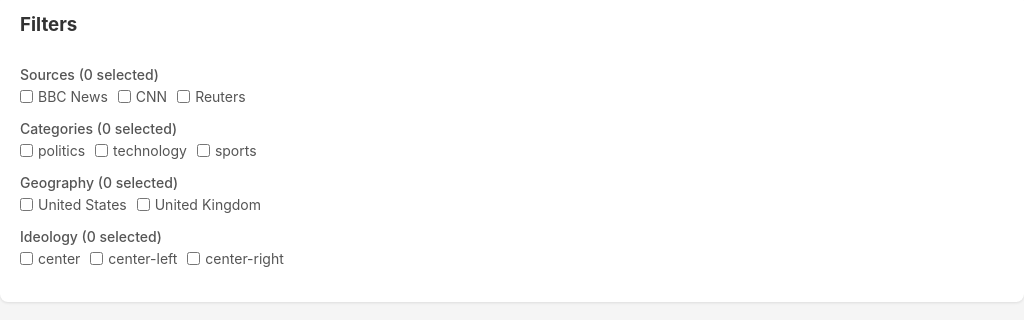
Test case: Filters › should show clear all button when filters active
Expected: the text "BBC News" is shown, [38,88,108,105]
Click the checkbox labelled "BBC News" at [26, 96], box [20,90,33,103]
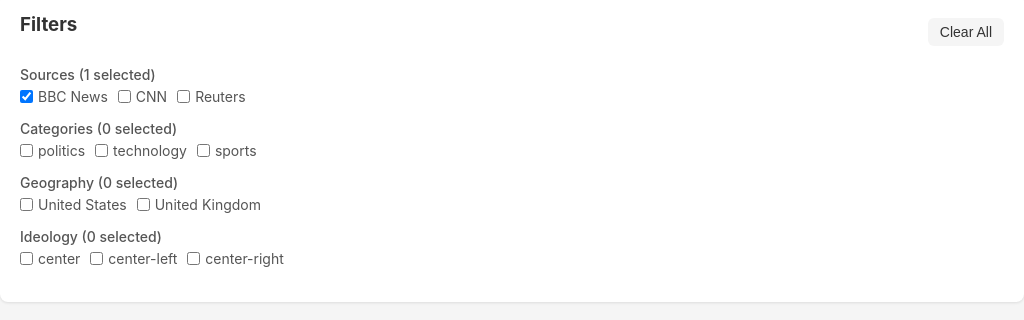
Now the button "Clear All" is shown, box [928,18,1004,46]
